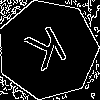K: (23, 24, 75, 81)
